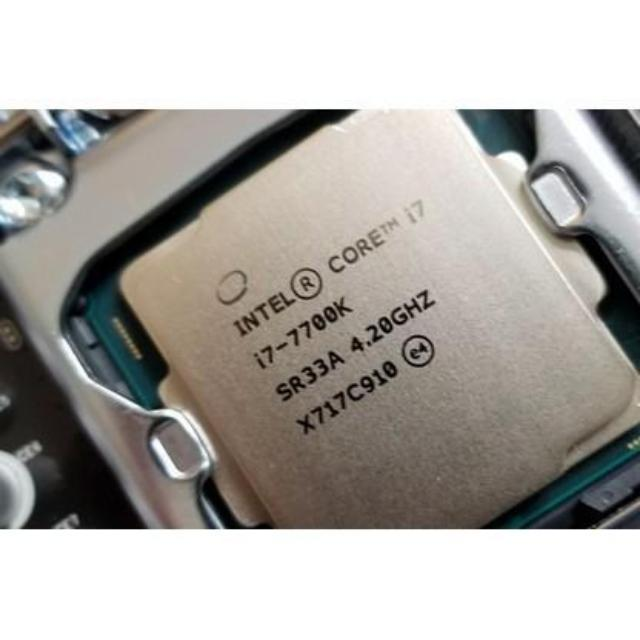CPU: (98, 110, 640, 530)
